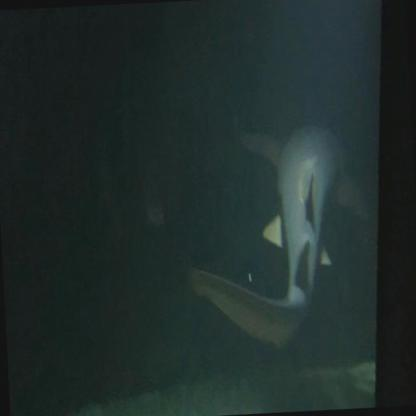shark: (181, 115, 380, 356)
